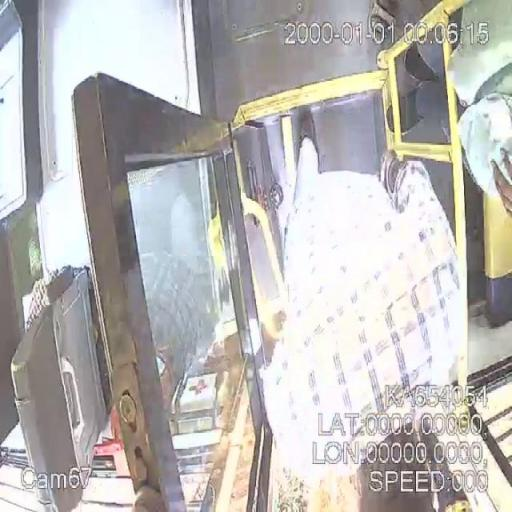persona: (257, 136, 467, 510)
